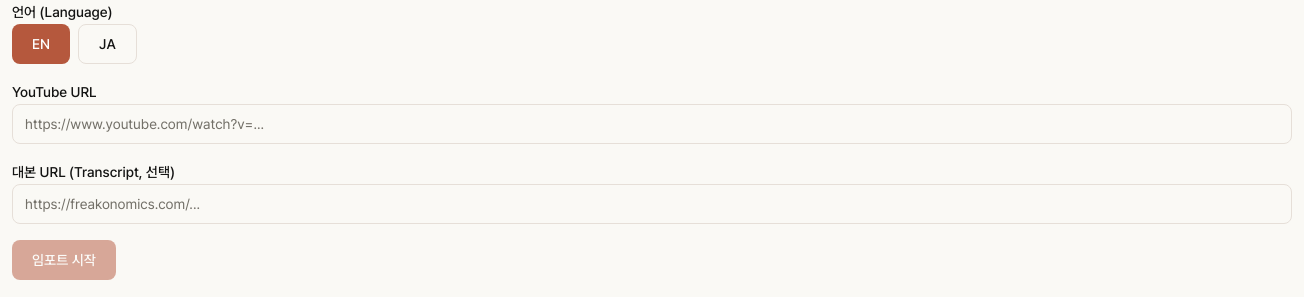
ImportForm (language) › should show error and keep form when API returns 400 for ja submit
Click the button "JA" at (107, 44), box [78,24,137,64]
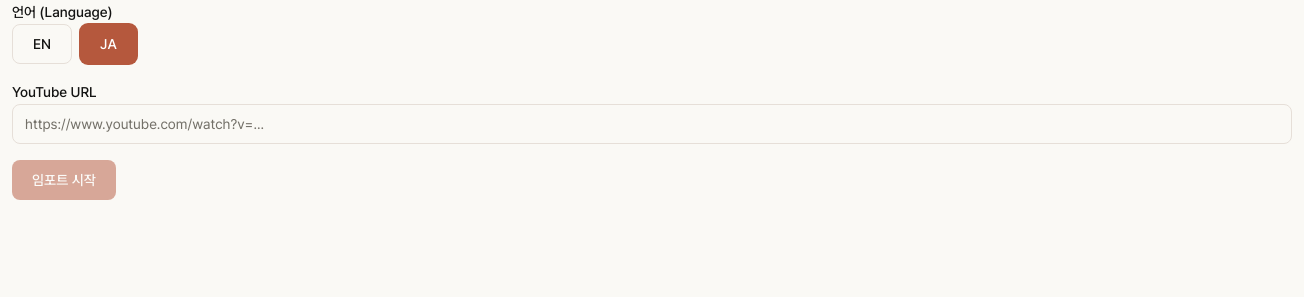
Type "https://www.youtube.com/watch?v=abc123" into the field labelled "YouTube URL" at (652, 124), box [12,104,1292,144]
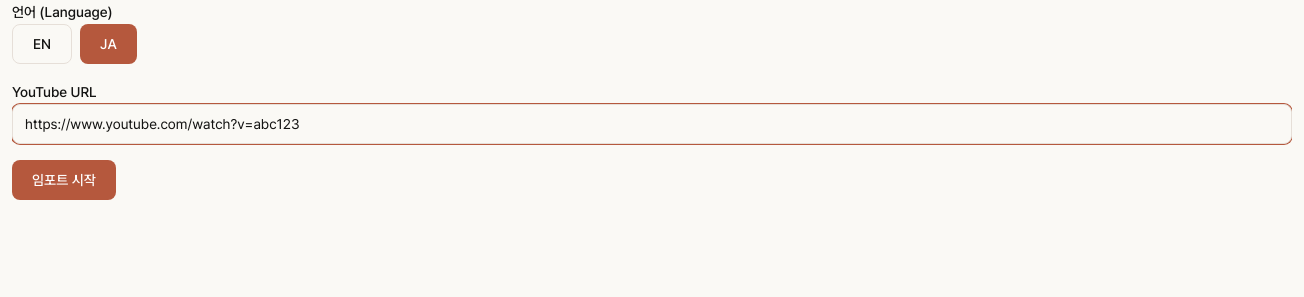
Click the button "임포트 시작" at (64, 180), box [12,160,116,200]
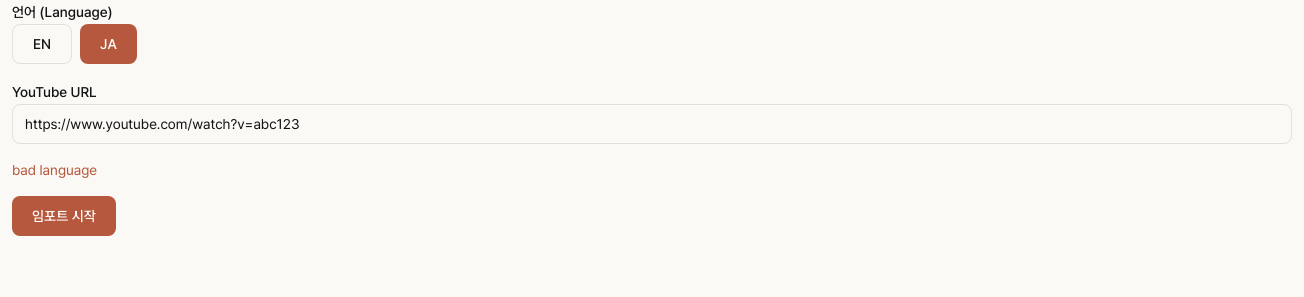
Expected: the message reads "bad language", [12,162,97,178]
